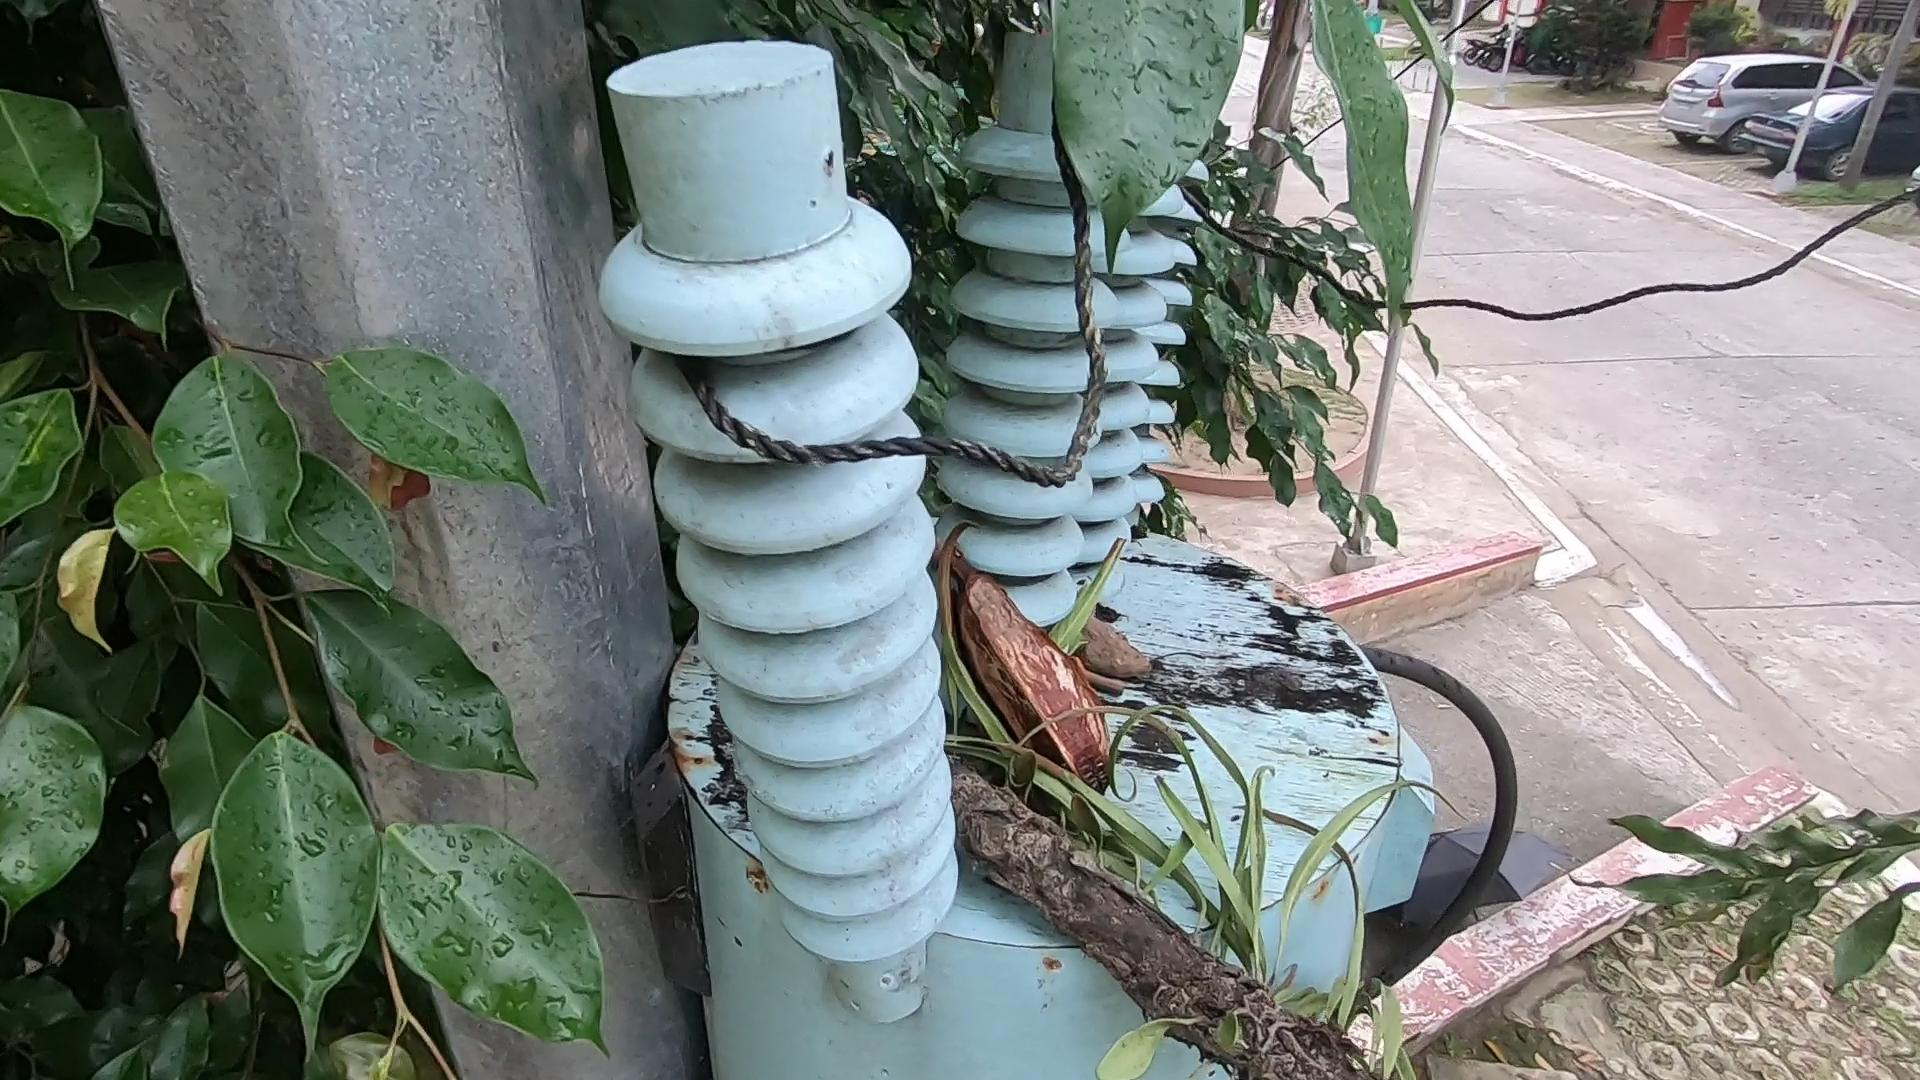branch with leaves: (920, 649, 1377, 1080)
mahogany fruit: (931, 542, 1110, 837), (1068, 596, 1172, 736)
tree branch: (1033, 646, 1135, 721)
